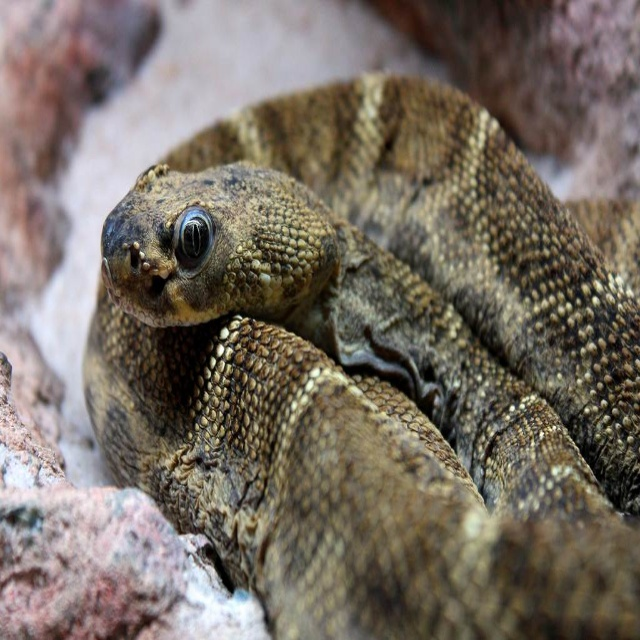Snake: (86, 70, 640, 639)
